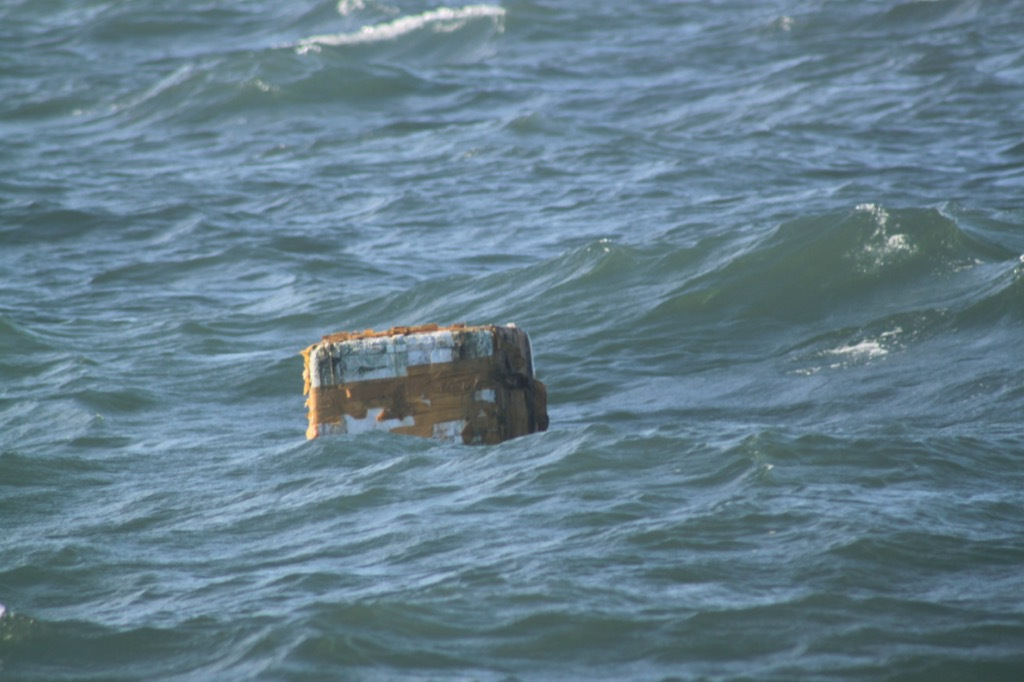plastic: (278, 299, 578, 495)
